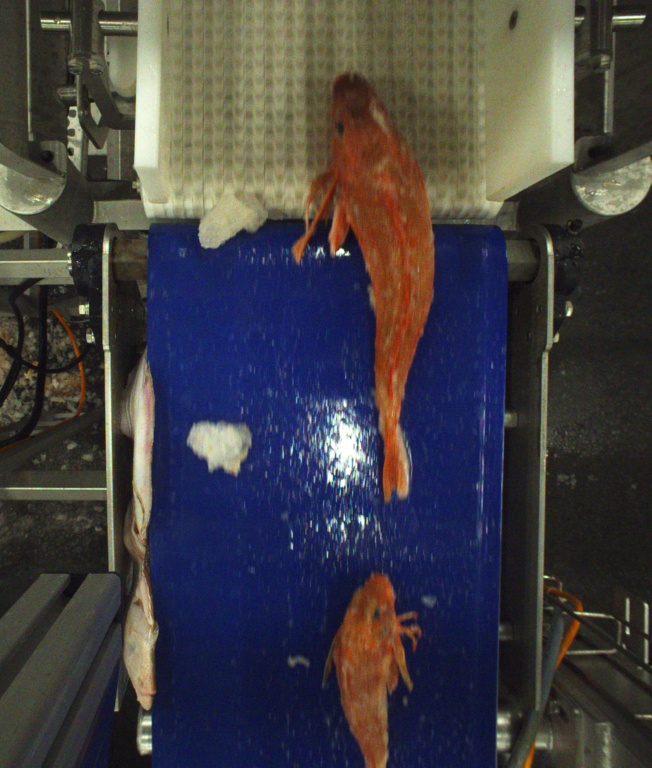GUU: (327, 572, 423, 768)
